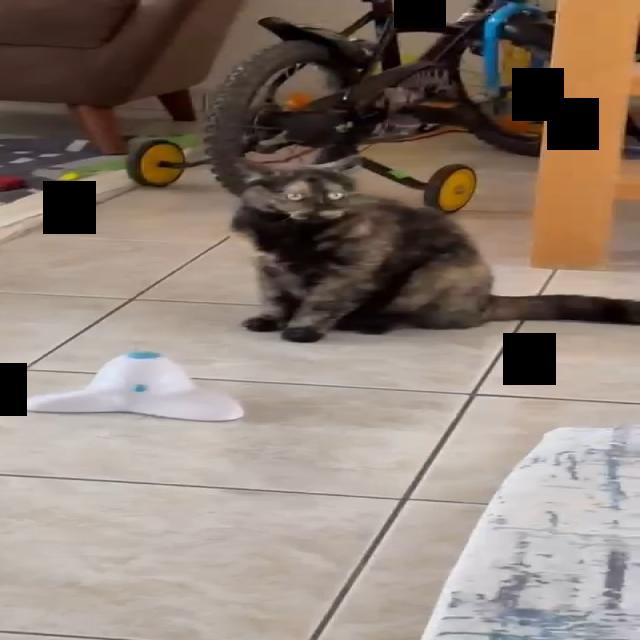authorized: (228, 166, 639, 343)
